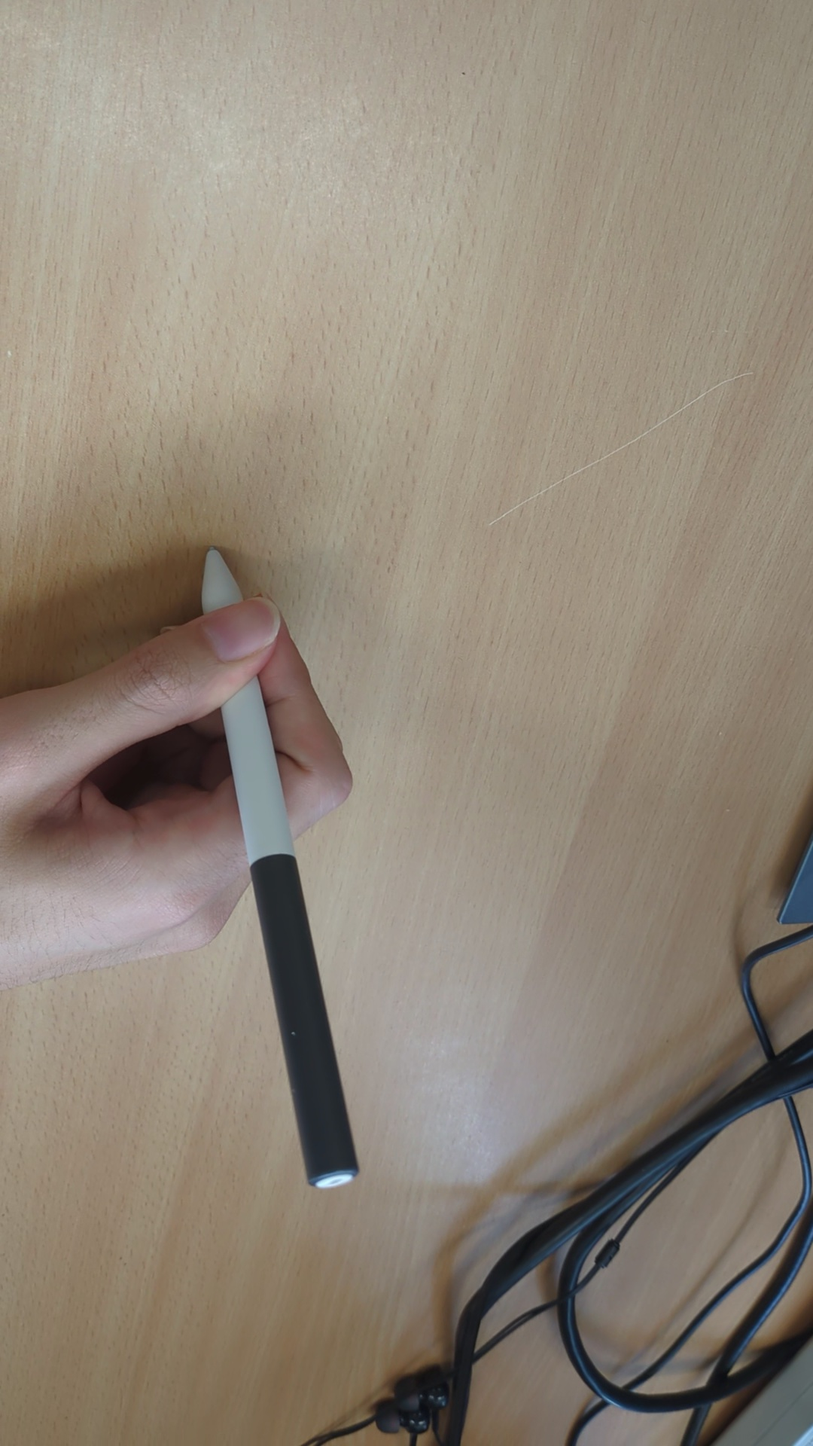pen: (199, 543, 360, 1191)
tip: (201, 542, 223, 563)
